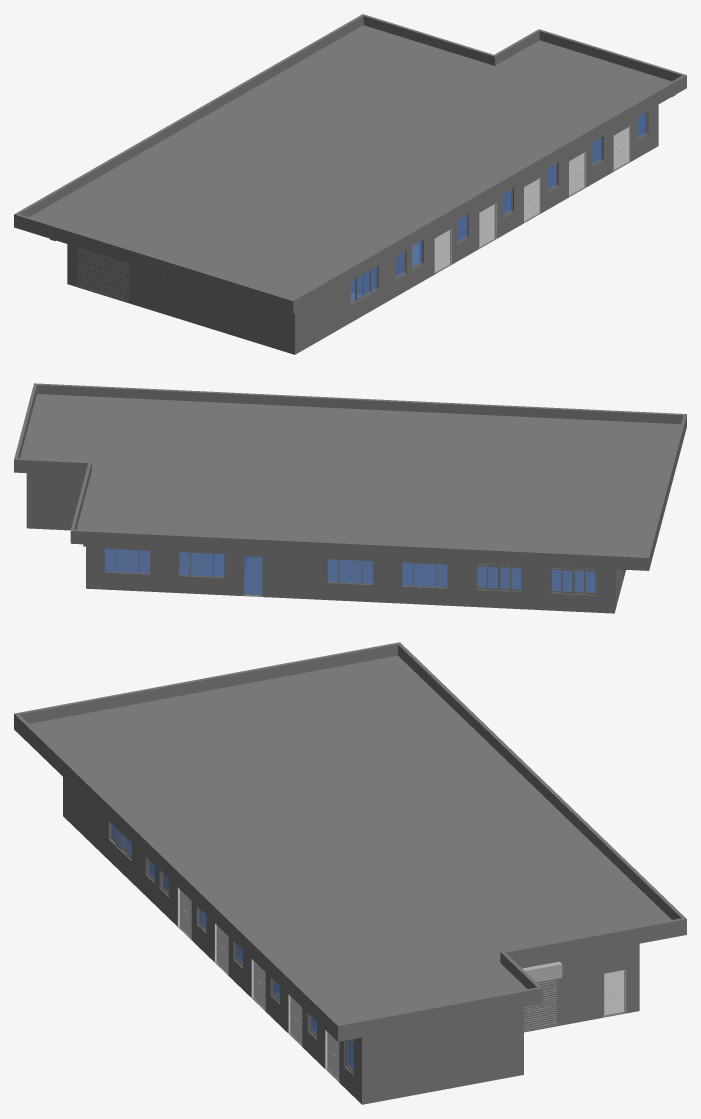
The picture shows the model from 3 angles, top to bottom: view 1: azimuth 30°, elevation 25°; view 2: azimuth 150°, elevation 25°; view 3: azimuth 270°, elevation 25°; orthographic projection. The views are drawn at different scales.
Visible parts, largest first — view 1: 樓板, A棟, 樑, 柱, 元件#26; view 2: 樓板, A棟, 樑, 柱; view 3: 樓板, A棟, 樑, 柱, 元件#26, DOOR.
Boxes of the visible parts, <box> form: 樓板: <box>79,41,646,285</box>; A棟: <box>14,14,686,351</box>; 樑: <box>73,39,652,287</box>; 柱: <box>67,36,658,354</box>; 元件#26: <box>77,247,129,303</box>; 樓板: <box>35,407,636,546</box>; A棟: <box>14,383,686,613</box>; 樑: <box>28,404,643,549</box>; 柱: <box>26,404,645,613</box>; 樓板: <box>76,685,624,1019</box>; A棟: <box>14,642,686,1102</box>; 樑: <box>67,682,633,1037</box>; 柱: <box>63,679,639,1104</box>; 元件#26: <box>524,978,559,1032</box>; DOOR: <box>605,970,623,1015</box>.
Bounding box in the file's own units: 39.05 × 4.25 × 28.93.
Materials: 11 (7 with a texture image).
